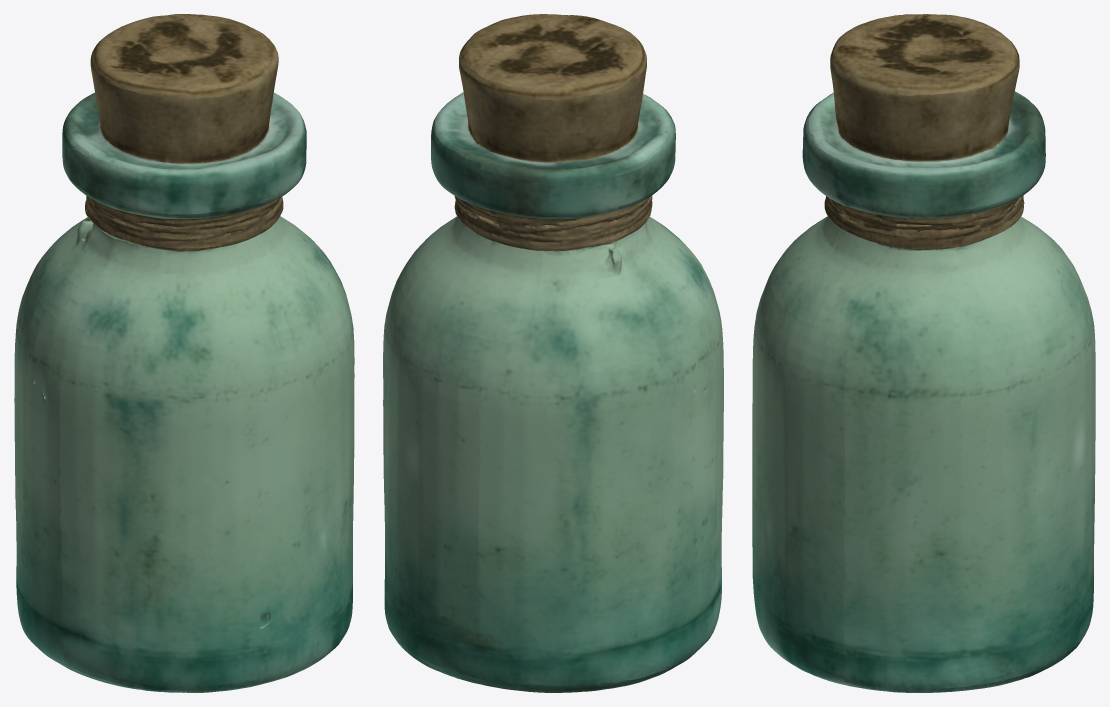
The model's file is tide-glass-bottle.glb.
3 views of the same model, side by side, from view 1: azimuth 30°, elevation 25°; view 2: azimuth 150°, elevation 25°; view 3: azimuth 270°, elevation 25° (orthographic).
Parts seen in each view (by area): view 1: world; view 2: world; view 3: world.
Boxes of the visible parts, x1,y1,x2,y2 form: world: (14, 14, 354, 692); world: (383, 14, 723, 692); world: (752, 14, 1095, 692).
Size of the model in its own units: 0.0448 by 0.085 by 0.0453.
Materials: 1 (1 with a texture image).
